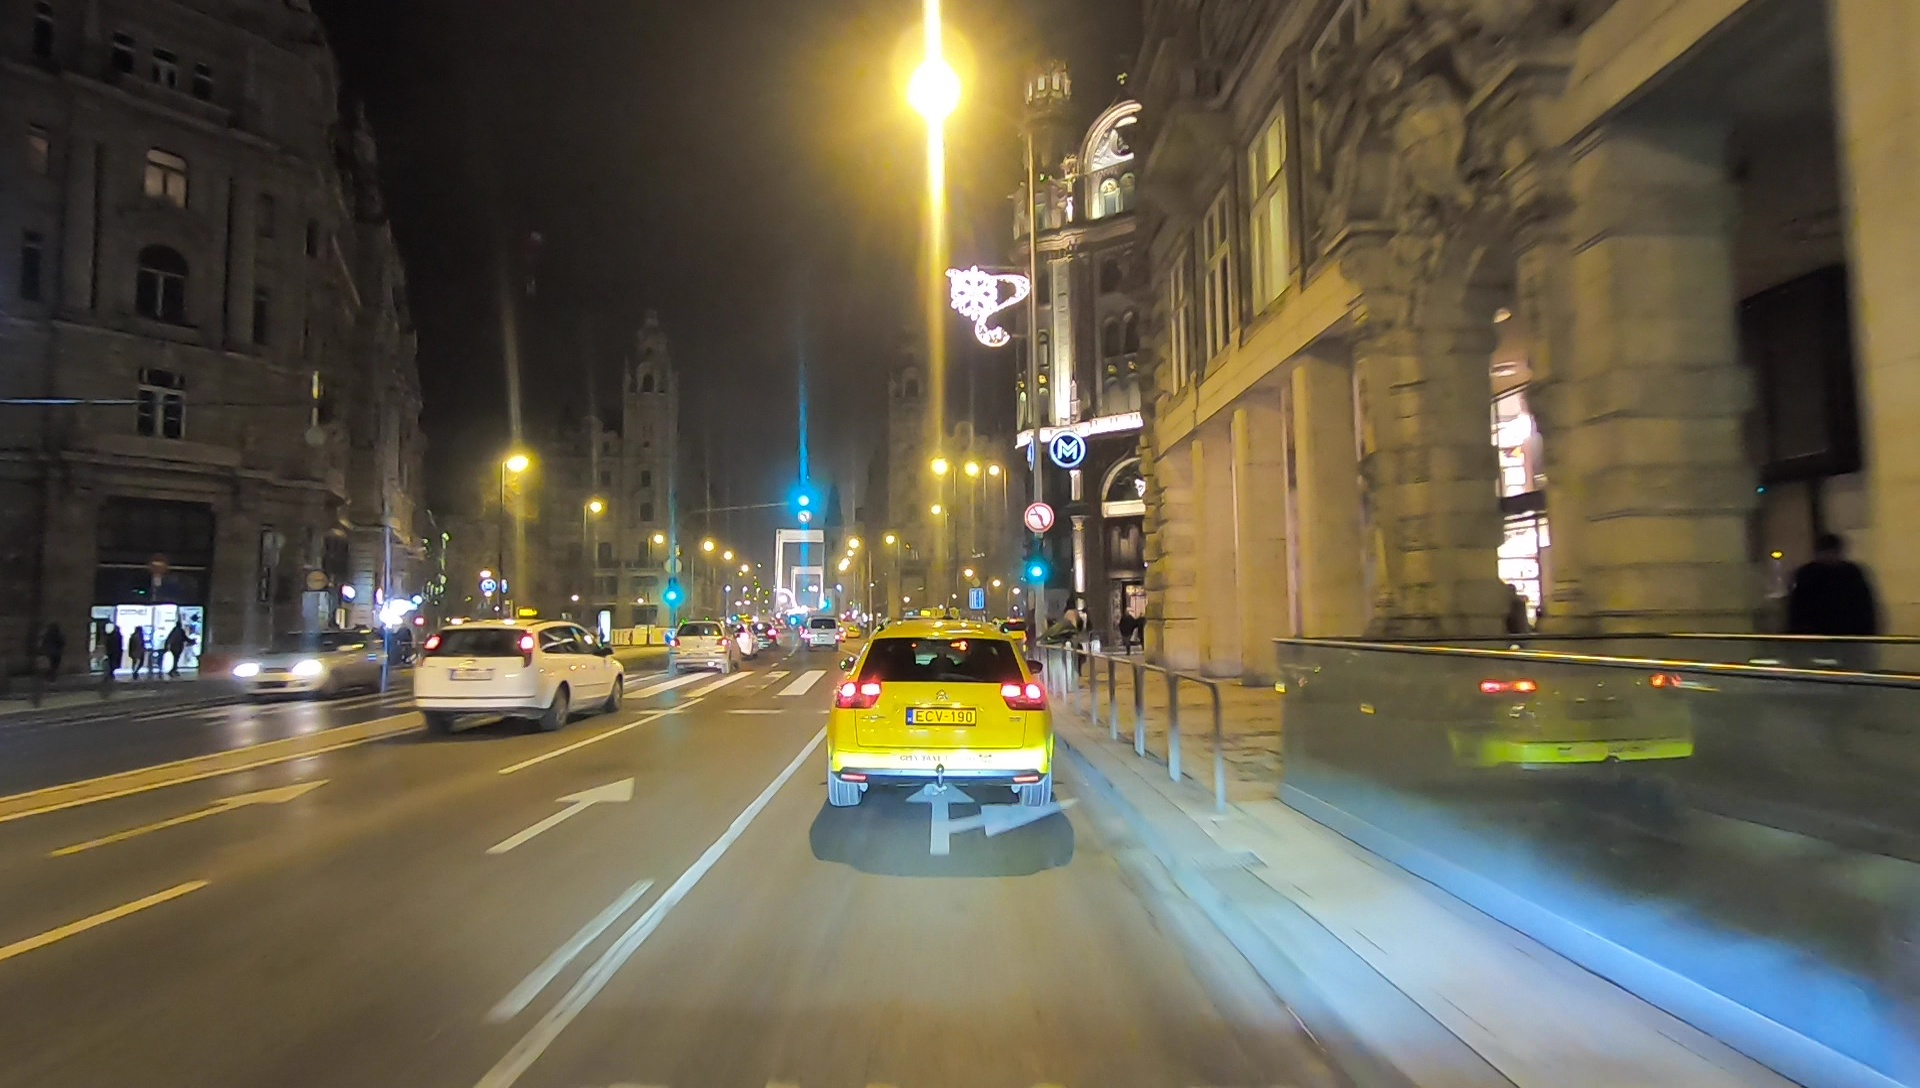person: (1788, 534, 1878, 804), (40, 620, 66, 684), (165, 621, 192, 681), (104, 625, 123, 681), (128, 626, 147, 680), (1117, 613, 1133, 659)
